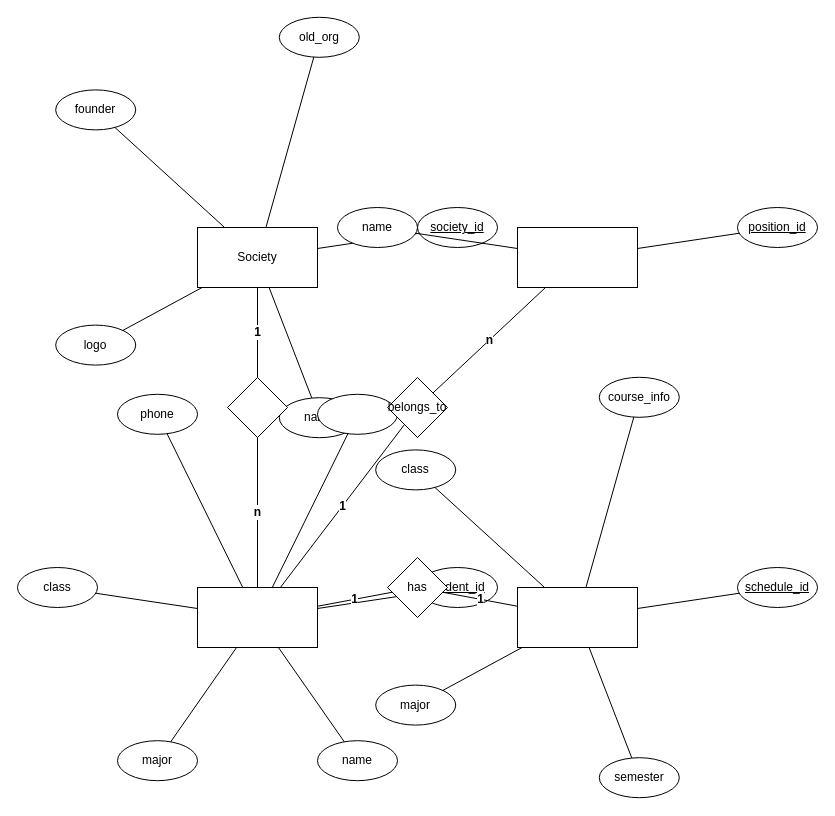
Some shapes in this 835 by 816 pixel diagram are drawn without their labels. Here are the shapes that lost their labels. From the top down, the centre of each, then its label:
At (577,257): "Position".
At (257,407): "includes".
At (357,413): "dorm".
At (257,617): "Student".
At (577,617): "Schedule".
